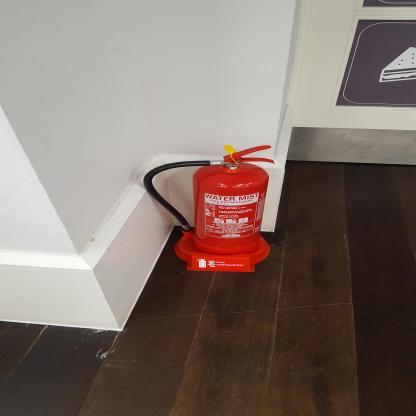Fire Extinguisher: (140, 130, 288, 269)
